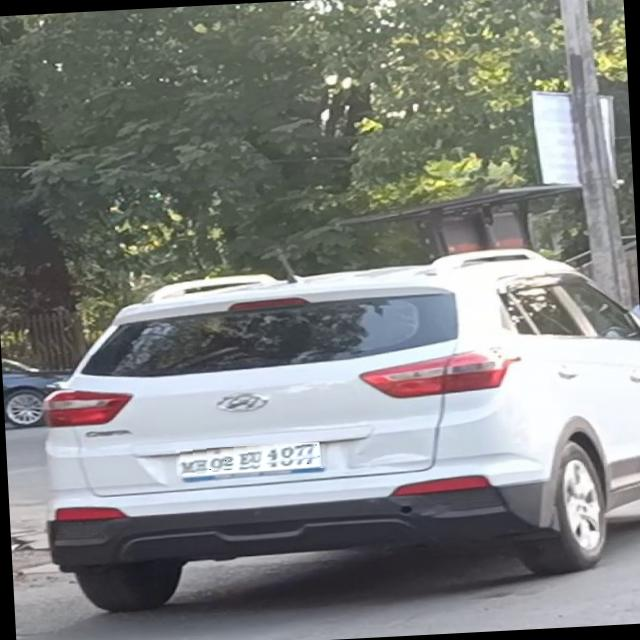Plate: (177, 443, 326, 477)
